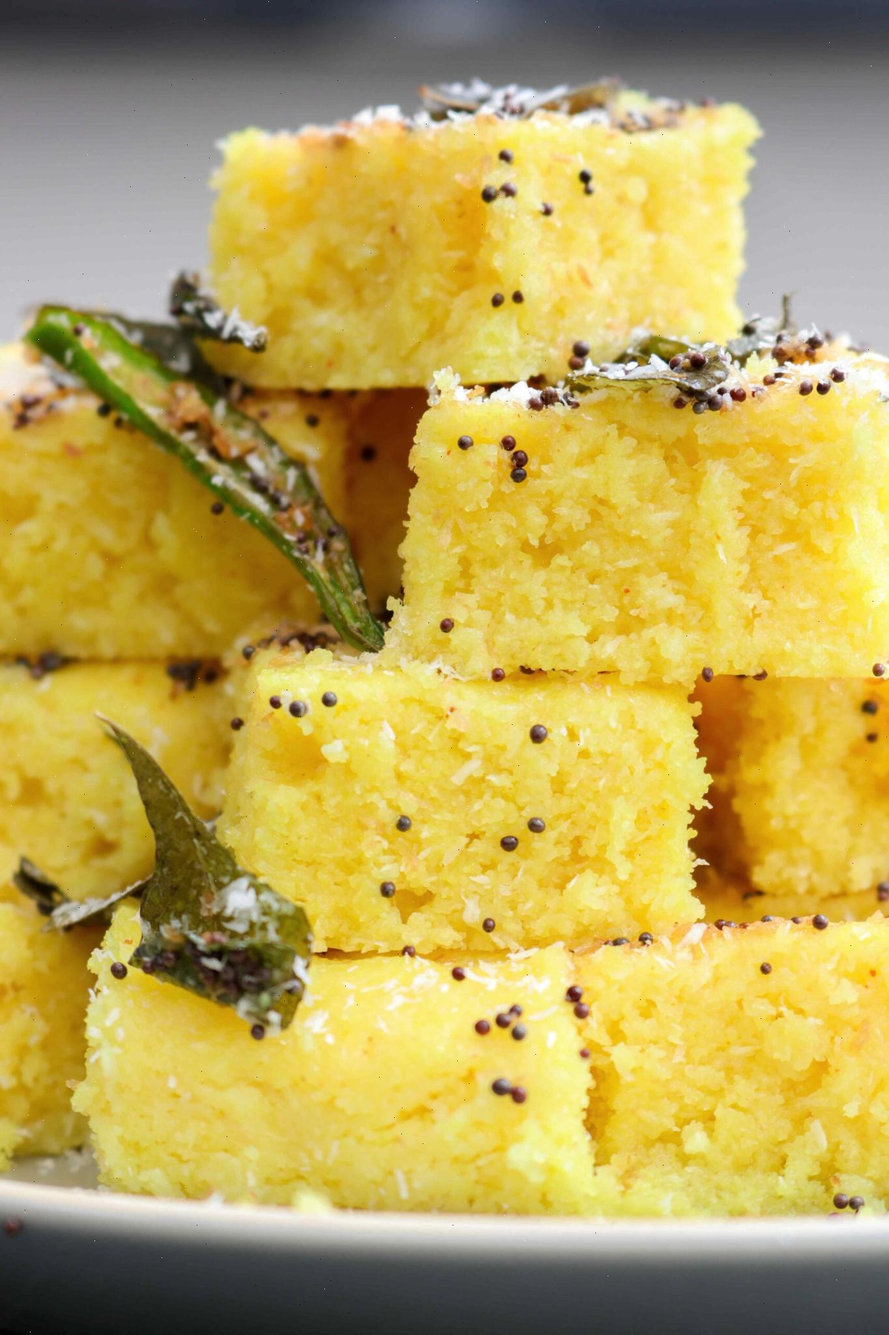yellow dhokla: (177, 56, 811, 400)
